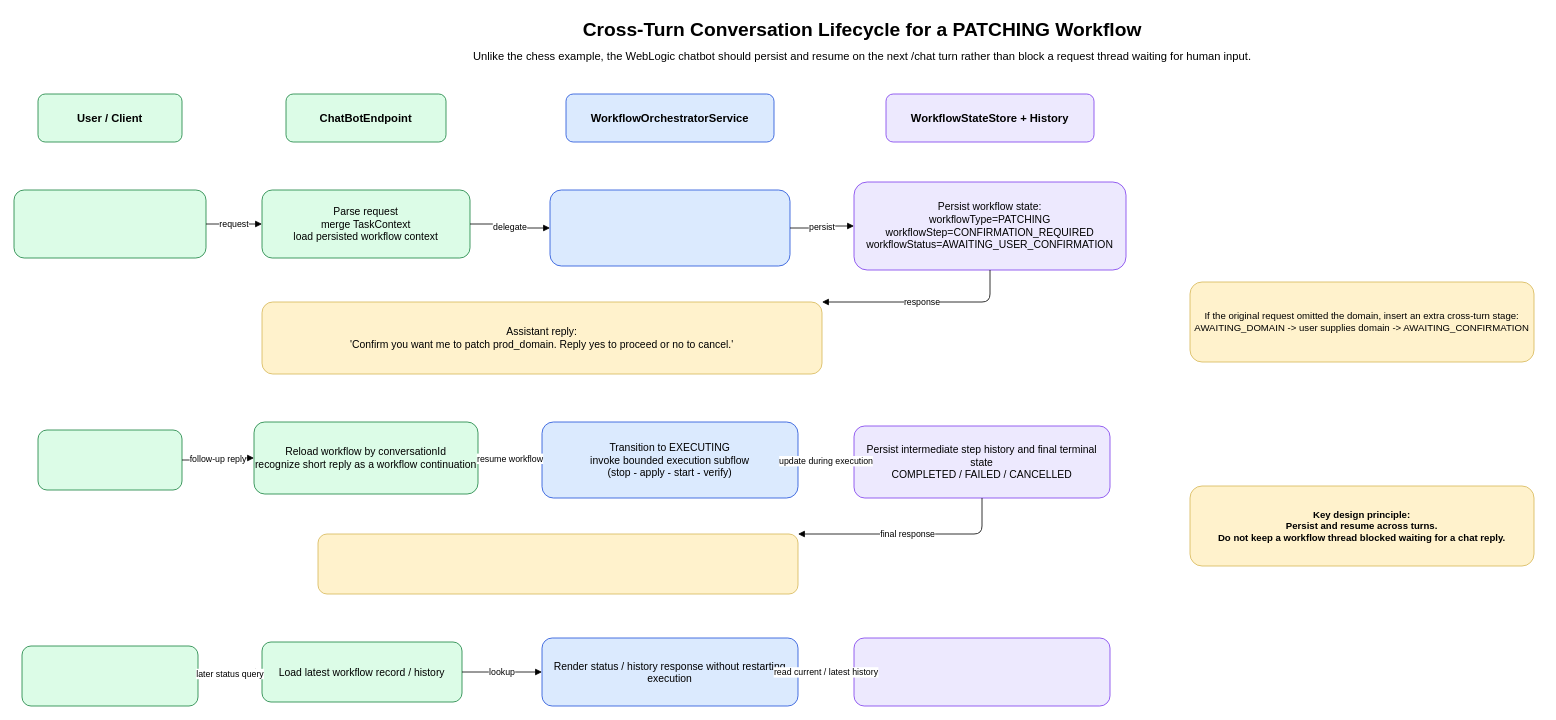
Image size: 1556x720. Some labels were removed from this diagram. Each missing label, with the box of its shape:
Assistant reply includes workflow progress and factual execution results: (317, 533, 798, 594)
Detect new workflow request resolve target transition to AWAITING_CONFIRMATION: (549, 189, 790, 266)
Return latest step, terminal status, and audit summary: (853, 637, 1110, 706)
Turn 1 User: 'Apply patches to prod_domain': (13, 189, 206, 258)
Turn 2 User: 'yes': (37, 429, 182, 490)
Turn 3+ User: 'What is the status?': (21, 645, 198, 706)
